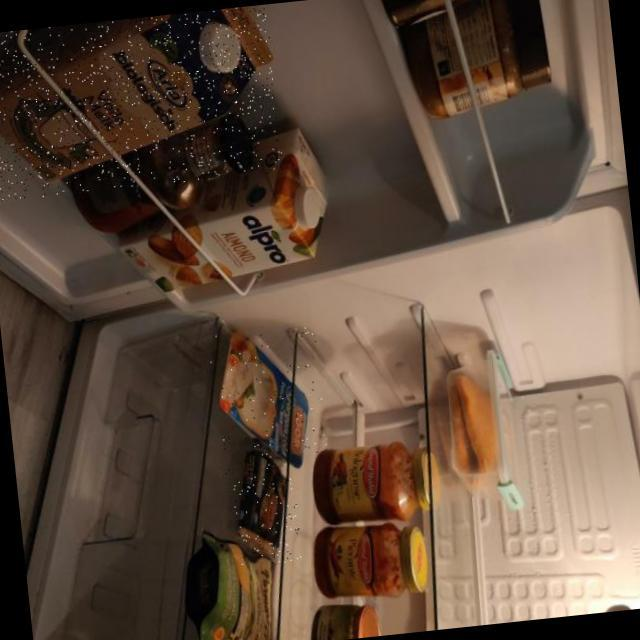Queso: (206, 326, 328, 479), (226, 433, 303, 567)
